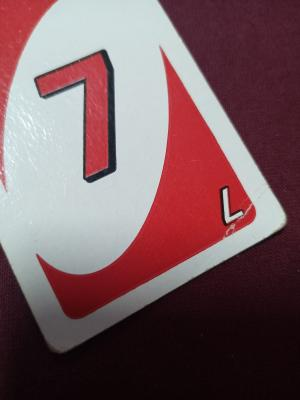num_7: (208, 177, 251, 231)
